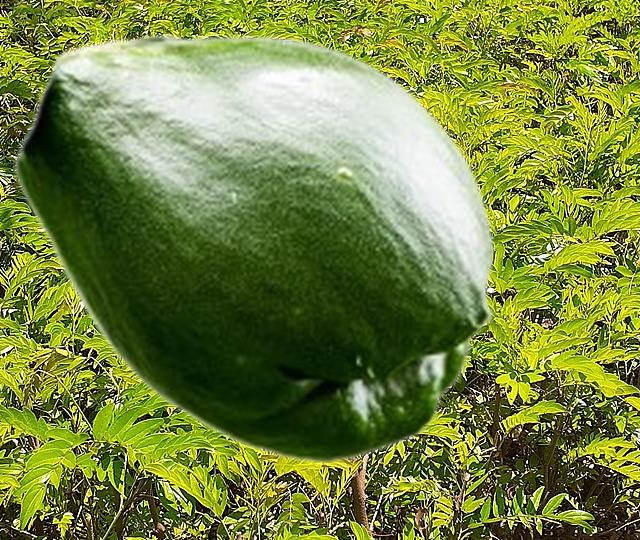sayote: (13, 33, 495, 463)
